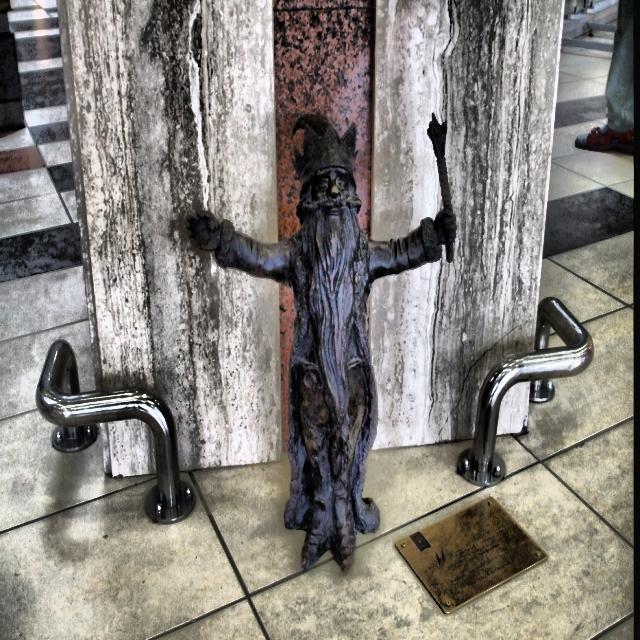Serdecznis: (184, 115, 457, 576)
